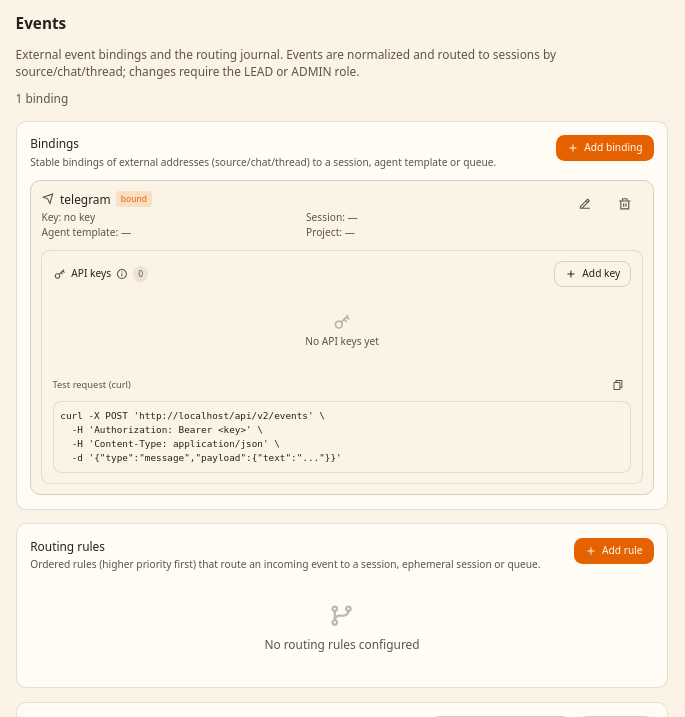
Scenario: EventsAdminSettings — API-ключи привязки (ADR-089) › поля формы ключа показывают иконку-подсказку (tooltip)
Click the button "Add key".
click(593, 274)  # box [554,261,631,287]
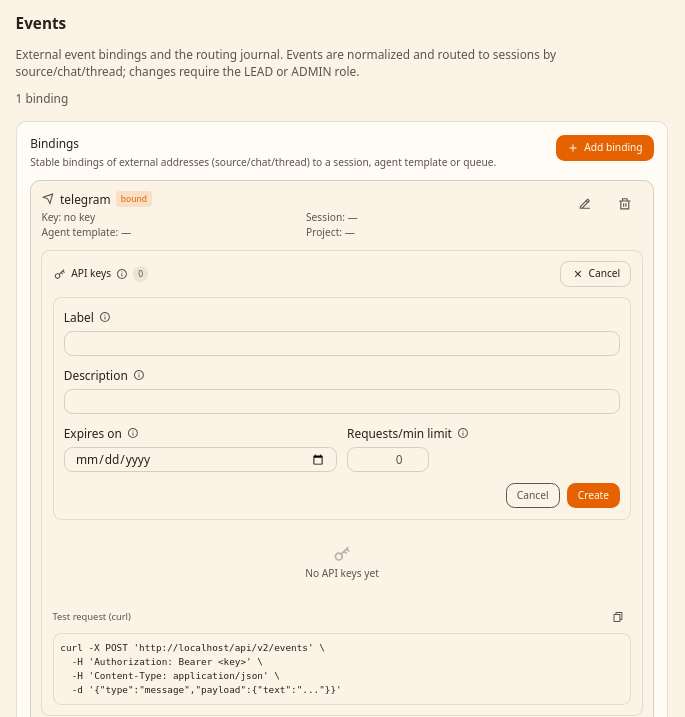
Expected: the 2nd picture with test id "settings-field-tooltip" is shown, [99,311,111,323]
